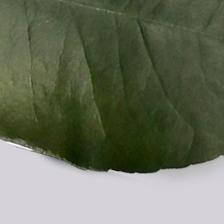healthy: (0, 0, 216, 179)
